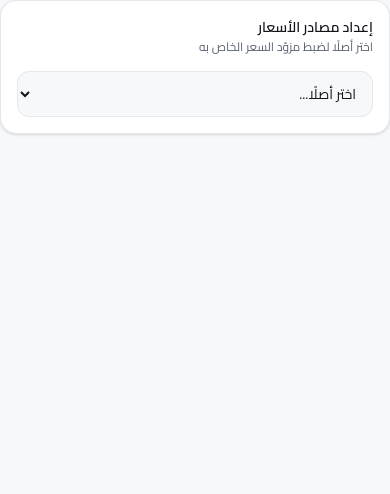
Test: PricingAdmin › shows an unconfigured status until an asset is selected and loaded
Select "TMGH — Talaat (EGP)" in the dropdown: (195,94) top-left (17, 71), bottom-right (373, 117)
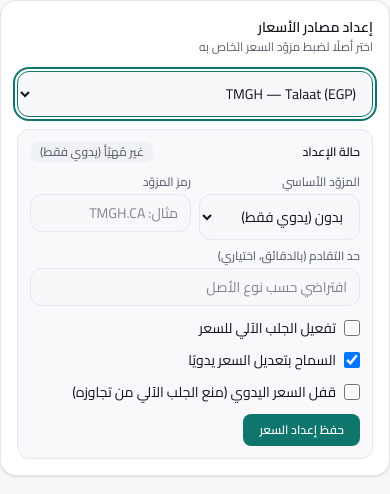
Now the text "غير مُهيّأ (يدوي فقط)" is shown, box top-left (30, 142), bottom-right (154, 162)
